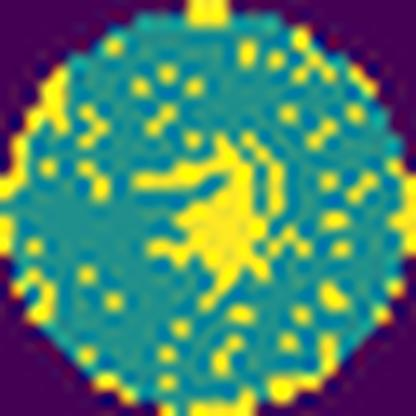Center: (126, 129, 294, 314)
